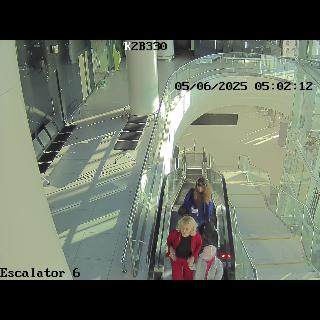normal: (165, 216, 202, 280), (179, 177, 213, 235), (186, 246, 224, 280)
